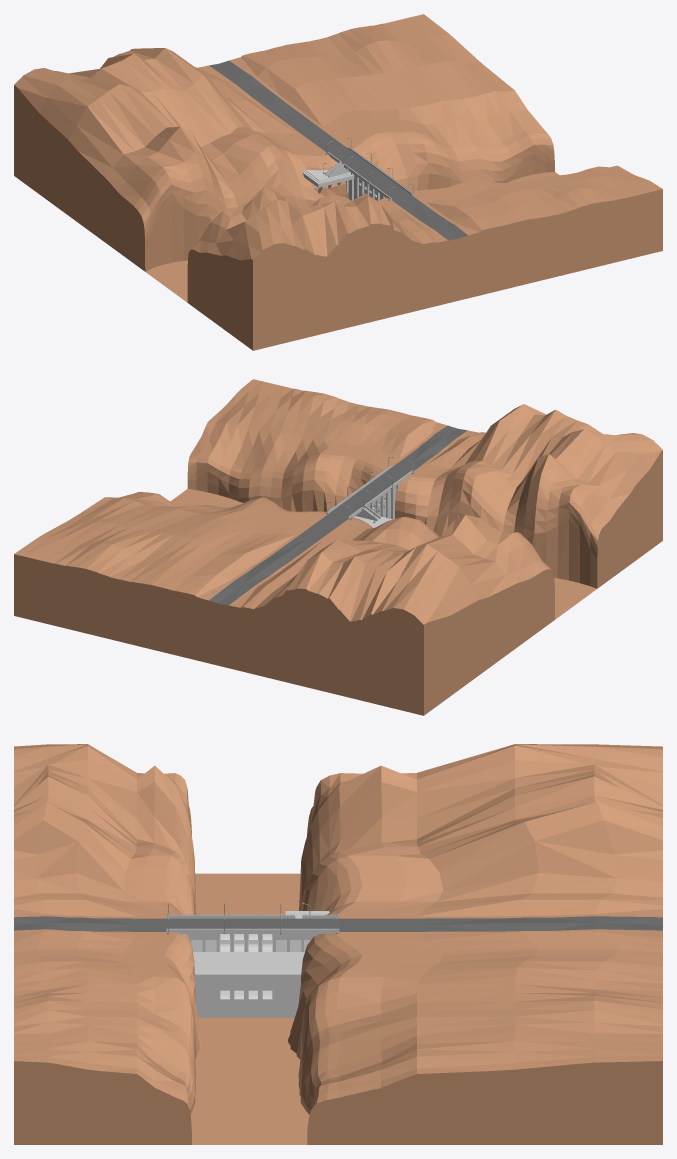
Rendered from dam.gltf.
3 renders of one model, top to bottom at view 1: azimuth 30°, elevation 25°; view 2: azimuth 150°, elevation 25°; view 3: azimuth 270°, elevation 25°, orthographic. The views are drawn at different scales.
Visible parts, largest first — view 1: Component_11_2, Component_9_2, Component_11_1, Component_9_1, Component_4_1, Component_3_1; view 2: Component_11_2, Component_9_2, Component_11_1, Component_9_1, Component_4_1; view 3: Component_9_2, Component_11_2, Component_9_1, Component_11_1, Component_4_1.
Part boxes in pixels (x1,y1,x2,y2): Component_11_2: (14,48,348,293); Component_9_2: (219,14,559,191); Component_11_1: (167,188,457,350); Component_9_1: (398,165,662,300); Component_4_1: (327,146,412,200); Component_3_1: (302,170,354,187); Component_11_2: (219,515,595,715); Component_9_2: (14,490,337,665); Component_11_1: (395,404,662,592); Component_9_1: (170,379,457,511); Component_4_1: (327,465,412,519); Component_9_2: (194,923,662,1144); Component_11_2: (195,744,662,925); Component_9_1: (14,923,248,1144); Component_11_1: (14,744,248,925); Component_4_1: (166,915,339,1017).
Size of the model in its own units: 1139 by 317 by 1151.
